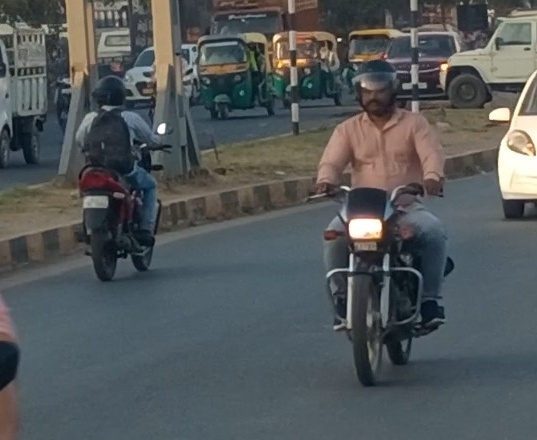BikeWithRider: (302, 51, 461, 391), (58, 63, 183, 289)
Helmet: (350, 57, 405, 116), (88, 71, 134, 110)
